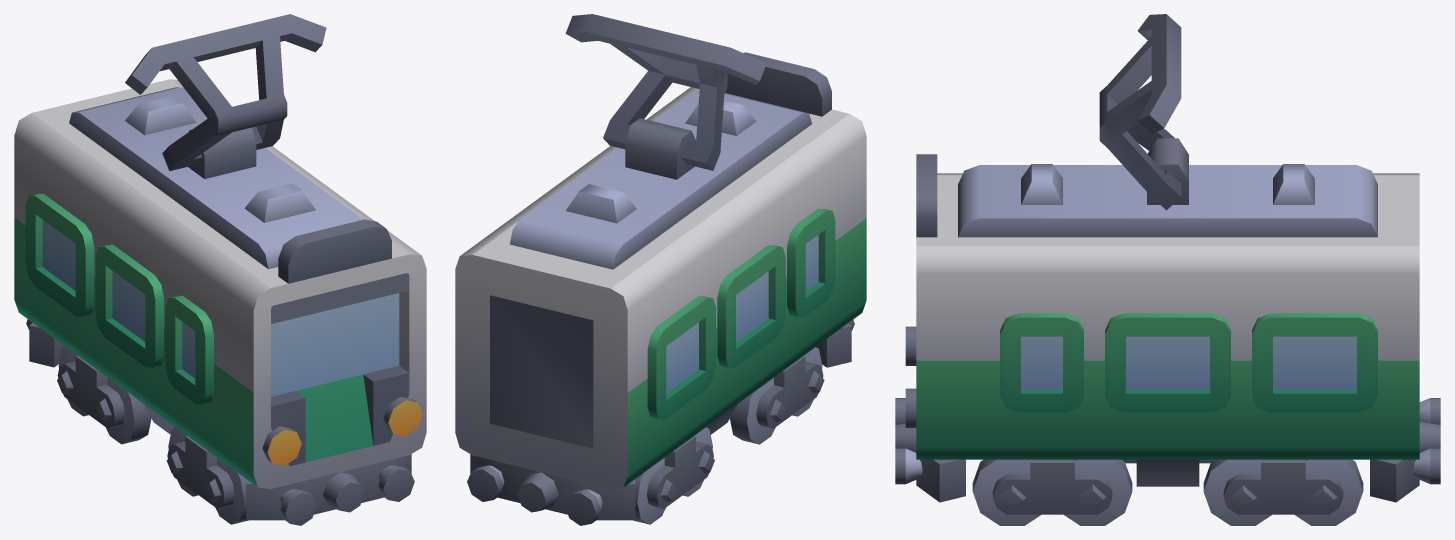
Rendered from train-electric-square-a.glb.
3 views of the same model, side by side, from view 1: azimuth 30°, elevation 25°; view 2: azimuth 150°, elevation 25°; view 3: azimuth 270°, elevation 25° (orthographic). The views are drawn at different scales.
Visible parts, largest first — view 1: train-electric-square-a, collector, wheels-back, wheels-front; view 2: train-electric-square-a, collector, wheels-front, wheels-back; view 3: train-electric-square-a, collector, wheels-back, wheels-front.
Part boxes in pixels (box(x1,y1,x2,y2)): train-electric-square-a: box(14, 79, 426, 525); collector: box(125, 14, 326, 171); wheels-back: box(57, 346, 151, 444); wheels-front: box(166, 427, 248, 524); train-electric-square-a: box(455, 52, 866, 525); collector: box(565, 14, 766, 170); wheels-front: box(730, 347, 824, 444); wheels-back: box(633, 427, 714, 524); train-electric-square-a: box(895, 138, 1440, 502); collector: box(1099, 14, 1181, 210); wheels-back: box(1203, 459, 1363, 525); wheels-front: box(972, 459, 1132, 525).
Size of the model in its own units: 1.13 by 2.32 by 2.6.
